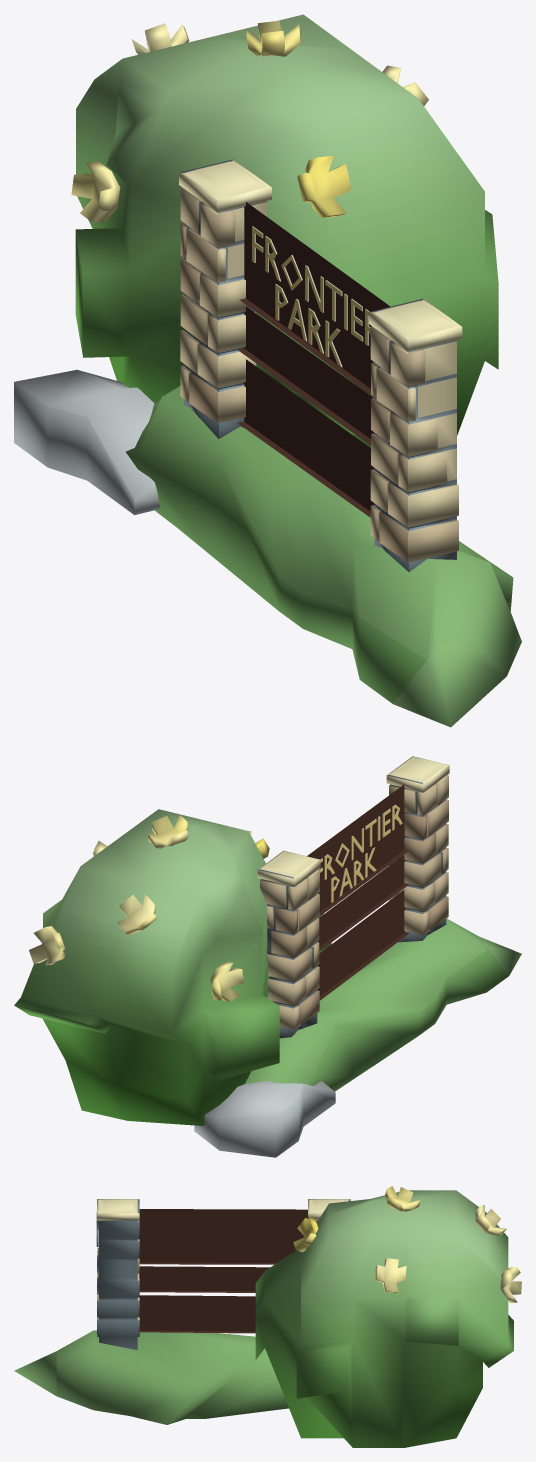
File: Frontier_Park_Sign.fbx
The picture shows the model from 3 angles, top to bottom: view 1: azimuth 30°, elevation 25°; view 2: azimuth 150°, elevation 25°; view 3: azimuth 270°, elevation 25°; orthographic projection. The views are drawn at different scales.
Parts seen in each view (by area): view 1: Cube.009; view 2: Cube.009; view 3: Cube.009.
Boxes of the visible parts, x1,y1,x2,y2 form: Cube.009: (14,14,521,727); Cube.009: (14,756,521,1157); Cube.009: (14,1186,521,1447).
Bounding box in the file's own units: 824 × 865 × 1709.
